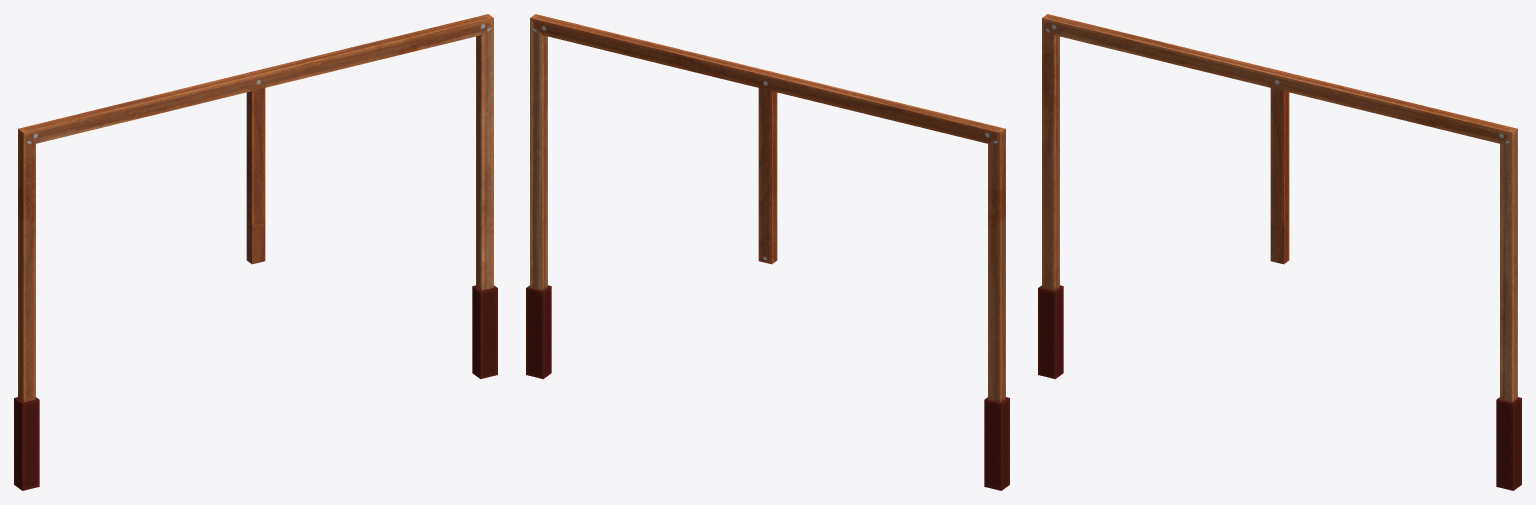
Rendered from verticalLeg.glb.
3 renders of one model, left to right at view 1: azimuth 30°, elevation 25°; view 2: azimuth 150°, elevation 25°; view 3: azimuth 330°, elevation 25°, orthographic.
Visible parts, largest first — view 1: Khung_chu_M.001; view 2: Khung_chu_M.001; view 3: Khung_chu_M.001.
Part boxes in pixels (x1,y1,x2,y2): Khung_chu_M.001: [14, 14, 497, 490]; Khung_chu_M.001: [526, 14, 1009, 490]; Khung_chu_M.001: [1038, 14, 1521, 490].
Bounding box in the file's own units: 5.12 × 3.67 × 0.1566.
1 material, 1 textured.
